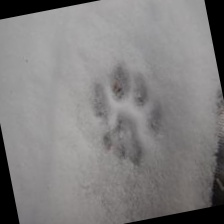puma: (81, 77, 146, 158)
